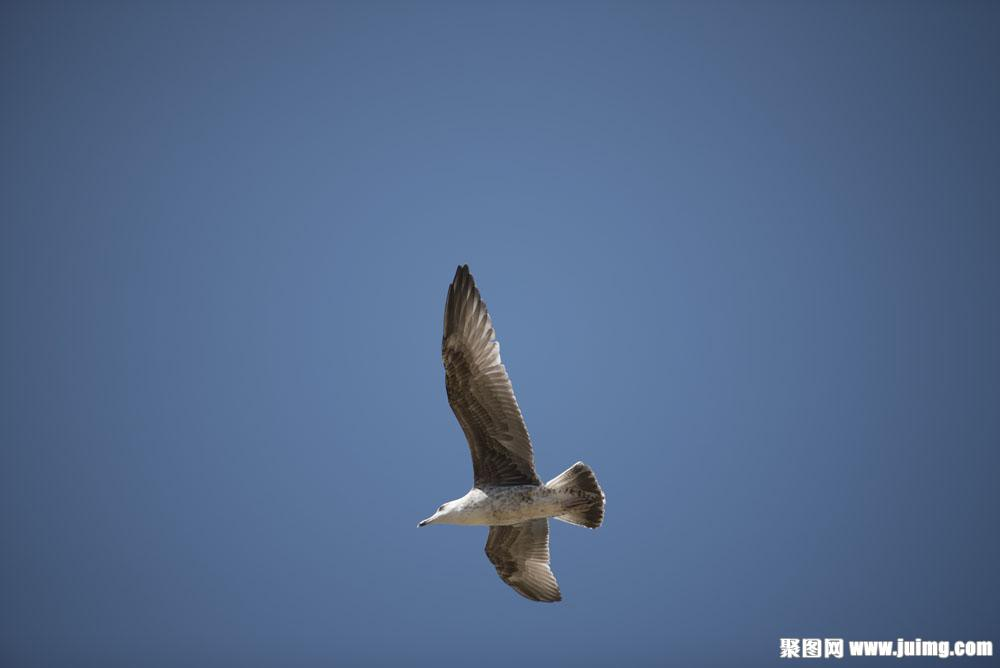bird: (412, 267, 606, 606)
